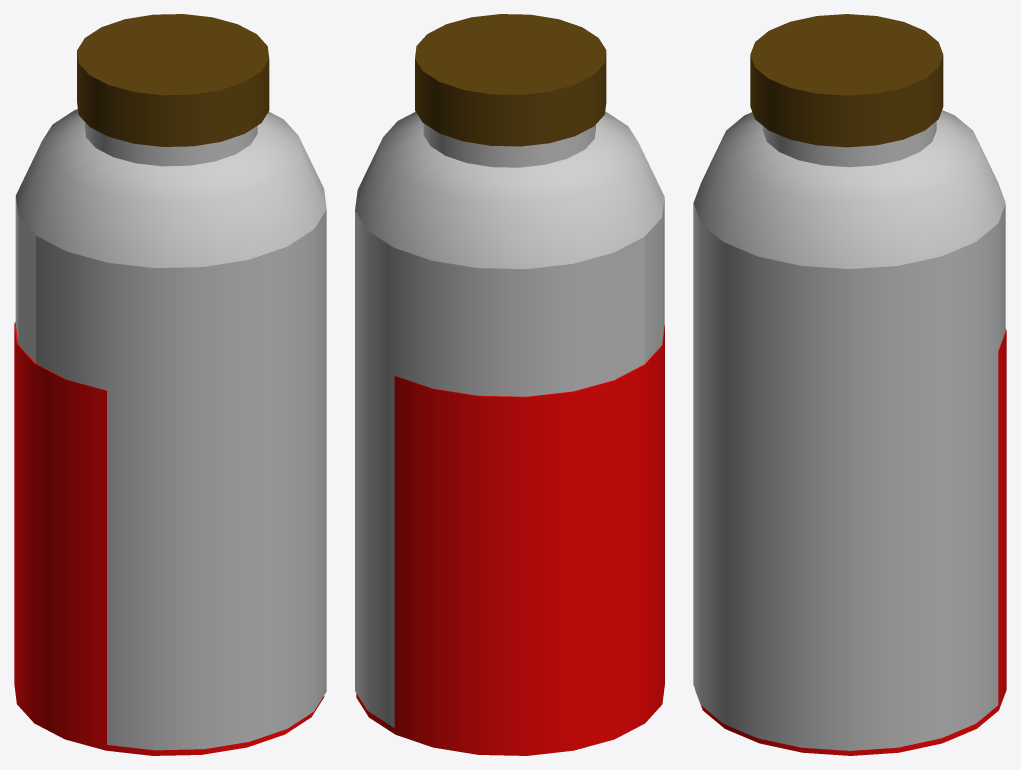
Rendered from potion 1.fbx.
3 views of the same model, side by side, from view 1: azimuth 30°, elevation 25°; view 2: azimuth 150°, elevation 25°; view 3: azimuth 270°, elevation 25° (orthographic).
Visible parts, largest first — view 1: pasted__pasted__pCylinder234, pasted__pasted__pCylinder237, pasted__pasted__pasted__pCylinder231; view 2: pasted__pasted__pCylinder237, pasted__pasted__pCylinder234, pasted__pasted__pasted__pCylinder231; view 3: pasted__pasted__pCylinder234, pasted__pasted__pasted__pCylinder231, pasted__pasted__pCylinder237.
Boxes of the visible parts, x1=… form: pasted__pasted__pCylinder234: x1=15, y1=109, x2=326, y2=750; pasted__pasted__pCylinder237: x1=14, y1=322, x2=324, y2=755; pasted__pasted__pasted__pCylinder231: x1=77, y1=14, x2=269, y2=146; pasted__pasted__pCylinder237: x1=356, y1=325, x2=664, y2=755; pasted__pasted__pCylinder234: x1=355, y1=111, x2=664, y2=727; pasted__pasted__pasted__pCylinder231: x1=415, y1=14, x2=606, y2=146; pasted__pasted__pCylinder234: x1=693, y1=110, x2=1005, y2=750; pasted__pasted__pasted__pCylinder231: x1=750, y1=14, x2=943, y2=147; pasted__pasted__pCylinder237: x1=695, y1=329, x2=1006, y2=755.
Bounding box in the file's own units: 0.0632 × 0.1454 × 0.0631.
2 materials, 2 textured.
